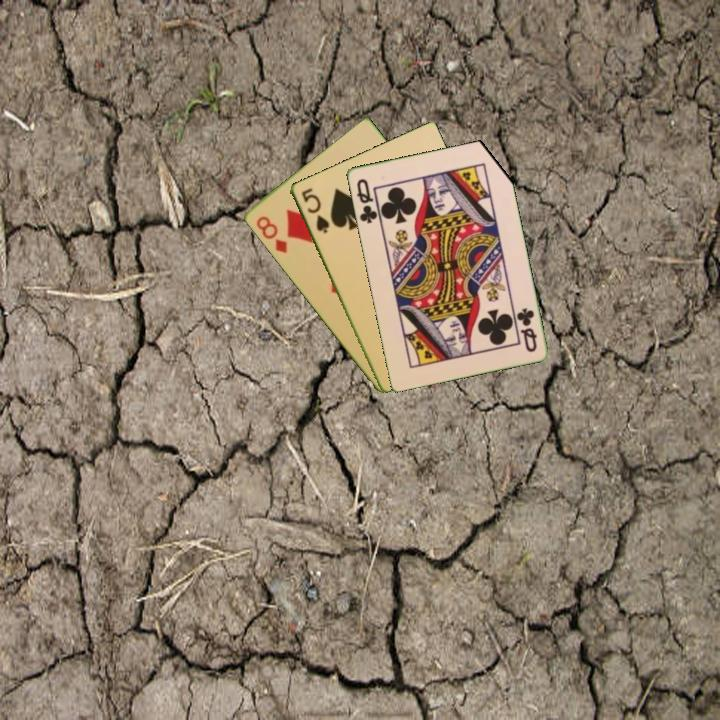5s: (297, 184, 332, 236)
8d: (252, 212, 290, 256)
Qc: (353, 175, 382, 226), (513, 304, 540, 355)
